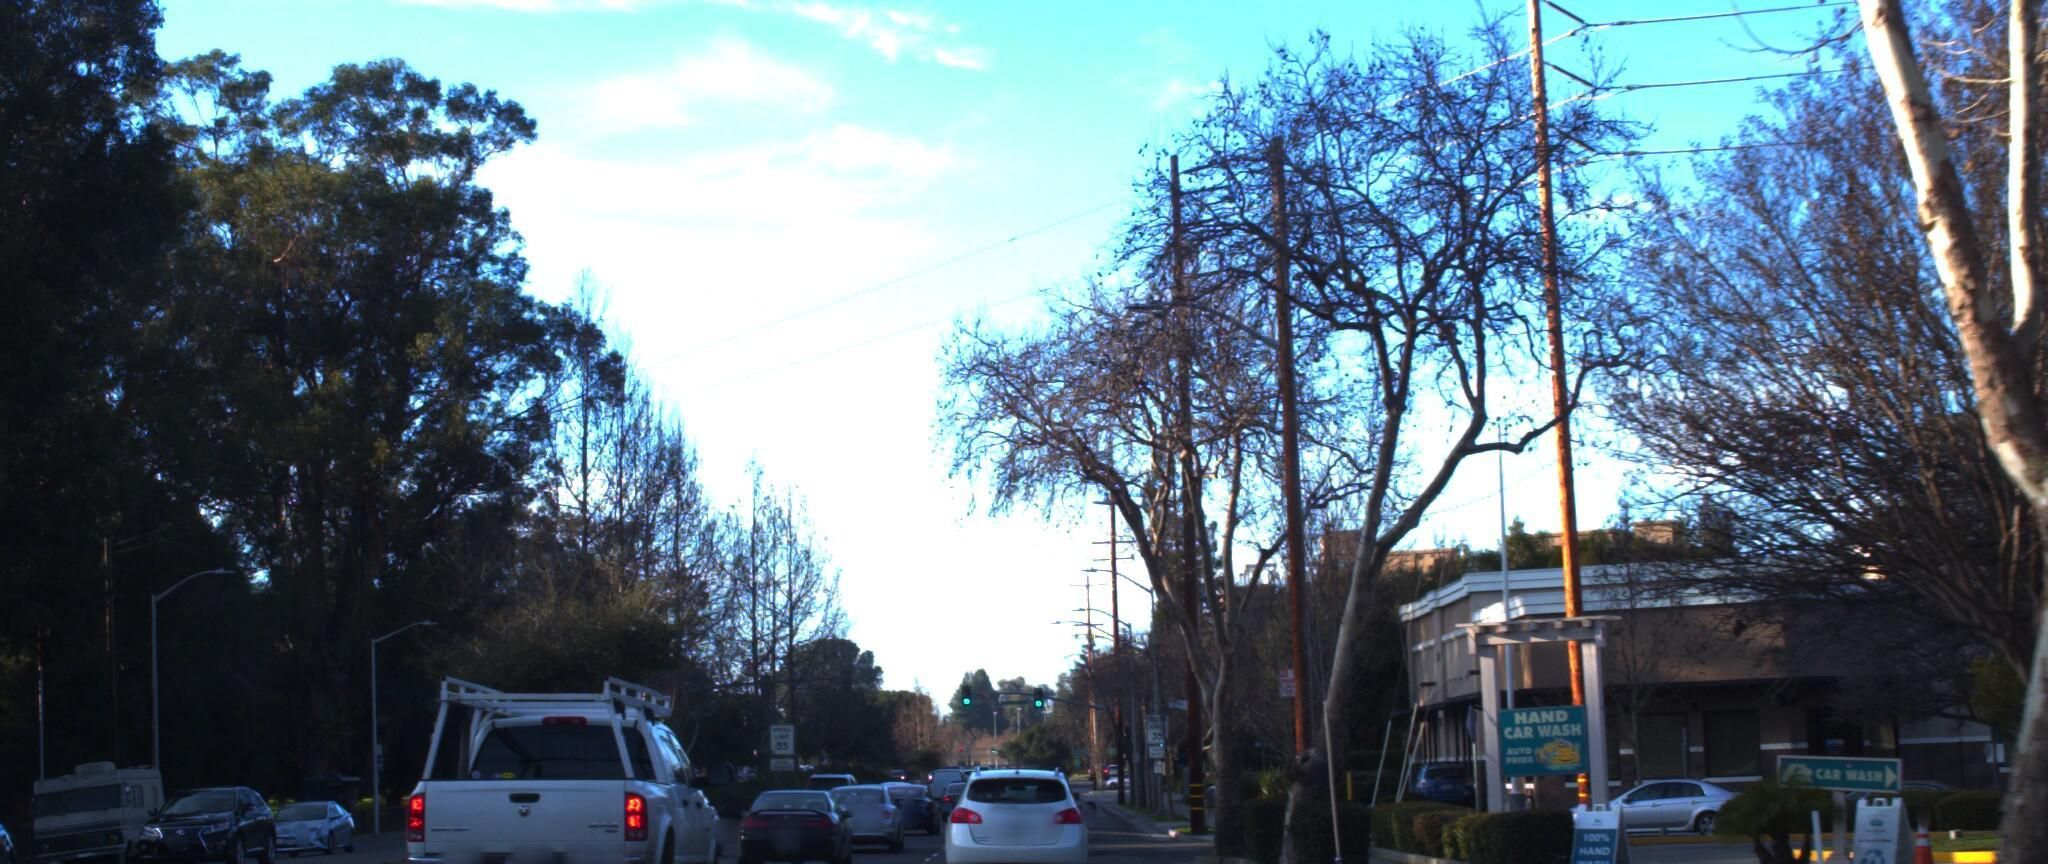car: (391, 670, 731, 864), (936, 745, 1095, 864), (0, 766, 167, 864), (131, 780, 296, 864), (733, 765, 852, 864), (246, 783, 387, 864), (814, 749, 908, 829), (0, 770, 29, 864)
